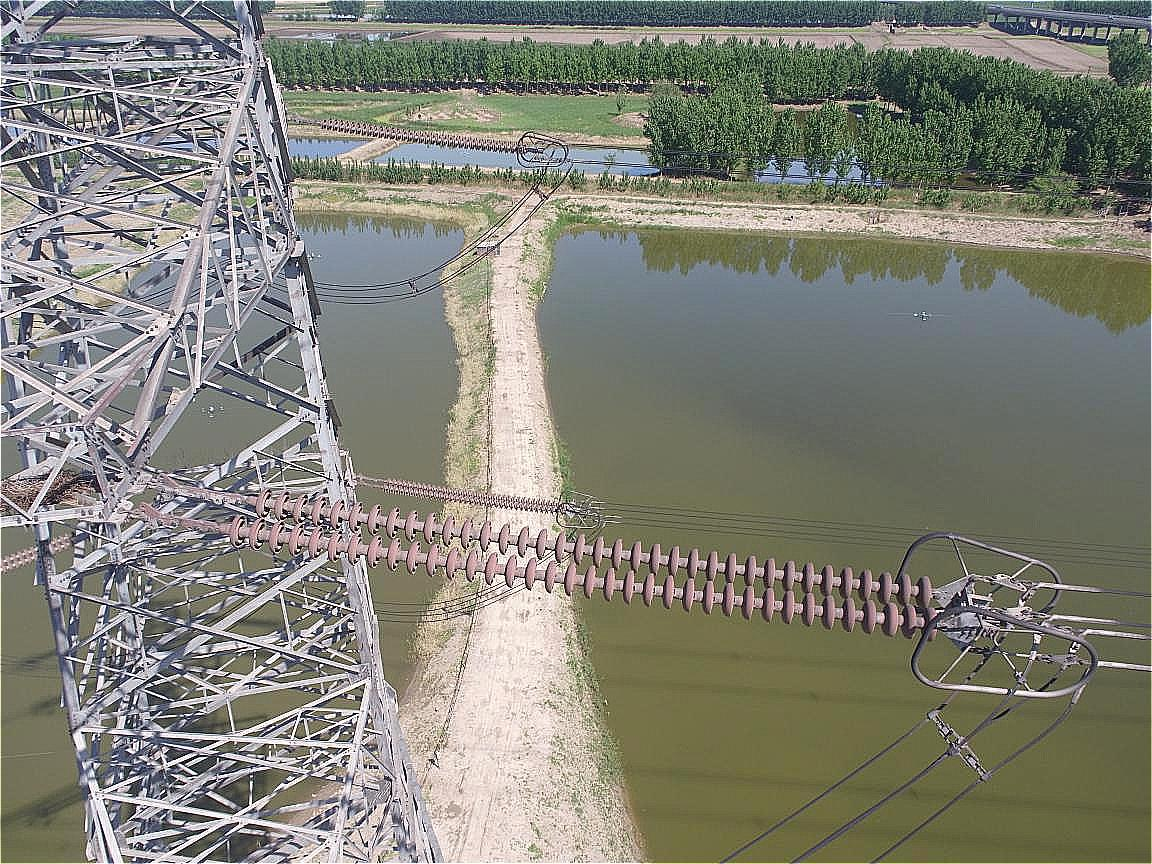insultor1: (215, 474, 962, 646)
insultor2: (310, 112, 535, 159), (382, 473, 573, 517)
